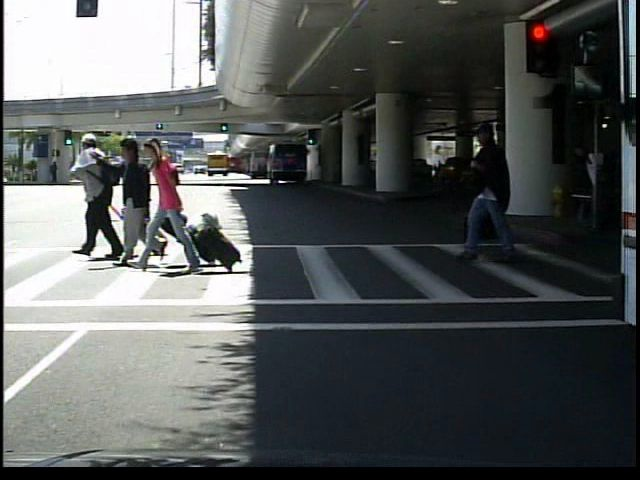person: (453, 114, 526, 265)
